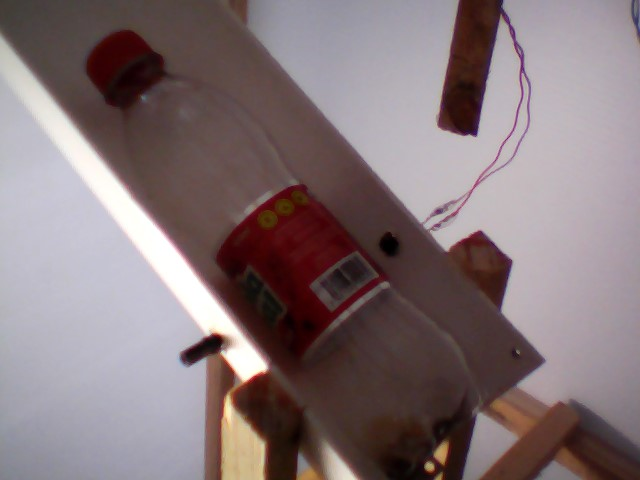plastico: (81, 22, 499, 480)
